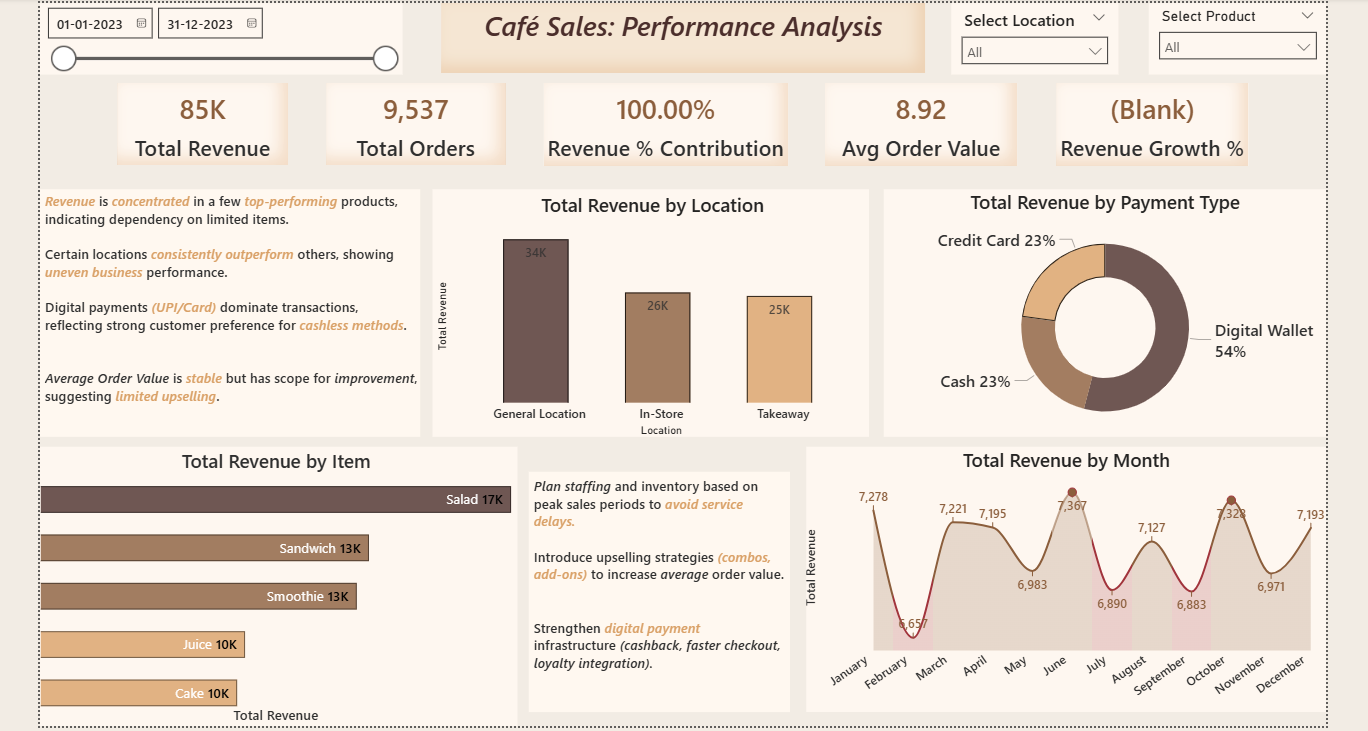

Layout of this report page (visuals, bound fields, positions):
{"tool":"powerbi","page":{"name":"Executive Overview","canvas":[1280,720],"ordinal":0},"visuals":[{"type":"card","fields":{"Values":["Cafe-data.Total Revenue"]},"box":[77.1,80.2,169.4,81.7],"z":0,"group":"g2"},{"type":"lineChart","fields":{"Y":["KPI's.Total Revenue"],"Category":["Date Table.Date.Variation.Date Hierarchy.Month"]},"box":[762,441.3,518,264],"z":0},{"type":"card","fields":{"Values":["KPI's.Total Orders"]},"box":[284.6,80.2,178.1,81.7],"z":1000,"group":"g2"},{"type":"clusteredBarChart","fields":{"Category":["Cafe-data.Item"],"Y":["KPI's.Total Revenue"]},"box":[0,441.2,475,278.8],"z":1000},{"type":"slicer","fields":{"Values":["Cafe-data.Item"]},"box":[1103.3,0,177,71.4],"z":2000},{"type":"card","fields":{"Values":["KPI's.Avg Order Value"]},"box":[781.6,80.2,191.5,82.3],"z":2000,"group":"g2"},{"type":"group","id":"g1","title":"Group 1","box":[0,0,1073.1,71.4],"z":3000},{"type":"card","fields":{"Values":["KPI's.Revenue Growth %"]},"box":[1011.1,79.6,191.5,82.3],"z":3000,"group":"g2"},{"type":"group","id":"g2","title":"Group 2","box":[77.1,79.6,1125.8,82.1],"z":4000},{"type":"card","fields":{"Values":["KPI's.Revenue % Contribution"]},"box":[500.7,80.2,242.8,82.3],"z":4000,"group":"g2"},{"type":"group","id":"g3","title":"Group 3","box":[390,185.3,890,246],"z":5000},{"type":"textbox","box":[0,185.3,378.2,246.3],"z":6000},{"type":"clusteredColumnChart","fields":{"Y":["KPI's.Total Revenue"],"Category":["Cafe-data.Location"]},"box":[390,185.3,434,246],"z":6000,"group":"g3"},{"type":"donutChart","title":"Total Revenue by Payment Type","fields":{"Y":["KPI's.Total Revenue"],"Category":["Cafe-data.Payment Method"]},"box":[839.3,185.3,440.7,246],"z":7000,"group":"g3"},{"type":"textbox","box":[486.4,466.5,260,238.8],"z":7000},{"type":"slicer","fields":{"Values":["Date Table.Date"]},"box":[0,0,360.9,71.4],"z":9000,"group":"g1"},{"type":"slicer","fields":{"Values":["Cafe-data.Location"]},"box":[907,0,166,71.4],"z":10000,"group":"g1"},{"type":"textbox","box":[399.2,0,481.6,70],"z":12000,"group":"g1"}]}

Visuals, with their boxes on the page's 1280x720 design canvas (x1, y1, x2, y2). These are canvas units, not pixel positions in the 1368x731 screenshot, which may show the page scaled, cropped or inside an application window:
card - Cafe-data.Total Revenue: [x1=77, y1=80, x2=246, y2=162]
lineChart - KPI's.Total Revenue x Date Table.Date.Variation.Date Hierarchy.Month: [x1=762, y1=441, x2=1280, y2=705]
card - KPI's.Total Orders: [x1=285, y1=80, x2=463, y2=162]
clusteredBarChart - Cafe-data.Item x KPI's.Total Revenue: [x1=0, y1=441, x2=475, y2=720]
slicer - Cafe-data.Item: [x1=1103, y1=0, x2=1280, y2=71]
card - KPI's.Avg Order Value: [x1=782, y1=80, x2=973, y2=162]
"Group 1" group: [x1=0, y1=0, x2=1073, y2=71]
card - KPI's.Revenue Growth %: [x1=1011, y1=80, x2=1203, y2=162]
"Group 2" group: [x1=77, y1=80, x2=1203, y2=162]
card - KPI's.Revenue % Contribution: [x1=501, y1=80, x2=744, y2=162]
"Group 3" group: [x1=390, y1=185, x2=1280, y2=431]
textbox: [x1=0, y1=185, x2=378, y2=432]
clusteredColumnChart - KPI's.Total Revenue x Cafe-data.Location: [x1=390, y1=185, x2=824, y2=431]
"Total Revenue by Payment Type" donutChart: [x1=839, y1=185, x2=1280, y2=431]
textbox: [x1=486, y1=466, x2=746, y2=705]
slicer - Date Table.Date: [x1=0, y1=0, x2=361, y2=71]
slicer - Cafe-data.Location: [x1=907, y1=0, x2=1073, y2=71]
textbox: [x1=399, y1=0, x2=881, y2=70]
